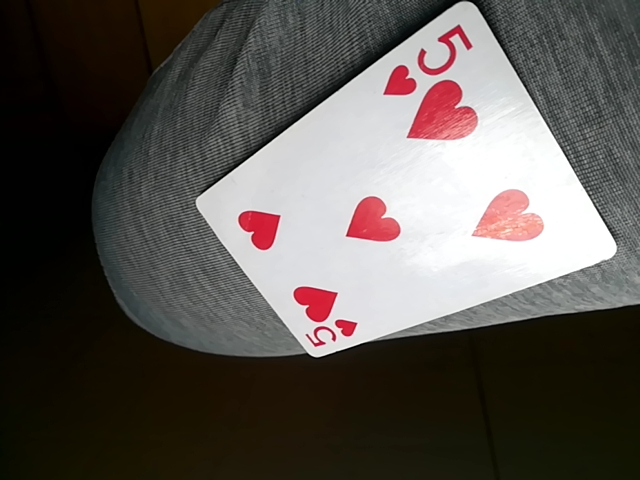hx 5: (191, 2, 617, 360)
